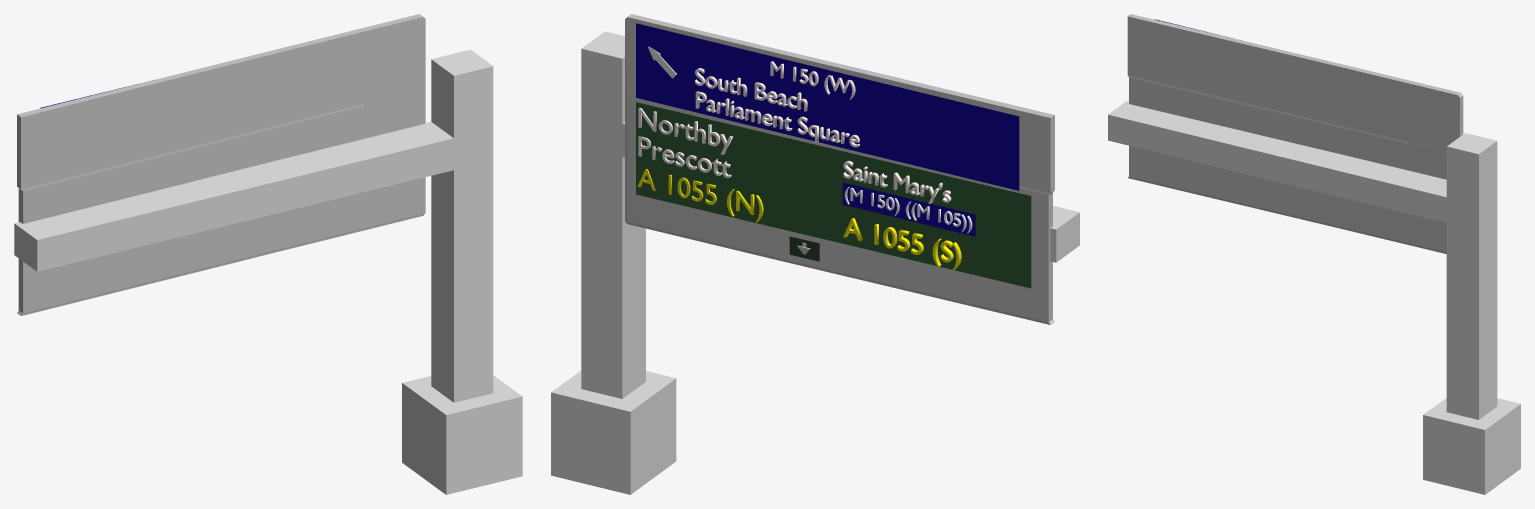
The model's file is A1055SignNorthbound.fbx.
3 renders of one model, left to right at view 1: azimuth 30°, elevation 25°; view 2: azimuth 150°, elevation 25°; view 3: azimuth 330°, elevation 25°, orthographic. The views are drawn at different scales.
Visible parts, largest first — view 1: Cube.008, Cube; view 2: Cube, Plane.001, Plane.003, Cube.008, Text.006, Plane.002, Text, Text.002, Text.001, Text.003, Text.004, Text.005; view 3: Cube.008, Cube.
Boxes of the visible parts, bbox=[...] form: Cube.008: bbox=[17, 14, 425, 315]; Cube: bbox=[14, 49, 522, 494]; Cube: bbox=[551, 31, 1079, 494]; Plane.001: bbox=[636, 102, 1031, 288]; Plane.003: bbox=[636, 23, 1019, 190]; Cube.008: bbox=[625, 14, 1054, 324]; Text.006: bbox=[695, 68, 859, 147]; Plane.002: bbox=[842, 182, 975, 236]; Text: bbox=[638, 107, 732, 178]; Text.002: bbox=[843, 218, 961, 270]; Text.001: bbox=[637, 169, 763, 222]; Text.003: bbox=[843, 160, 951, 203]; Text.004: bbox=[844, 187, 972, 233]; Text.005: bbox=[770, 61, 855, 99]; Cube.008: bbox=[1127, 14, 1463, 253]; Cube: bbox=[1108, 101, 1520, 494].
Bounding box in the file's own units: 12.44 × 11.31 × 2.
